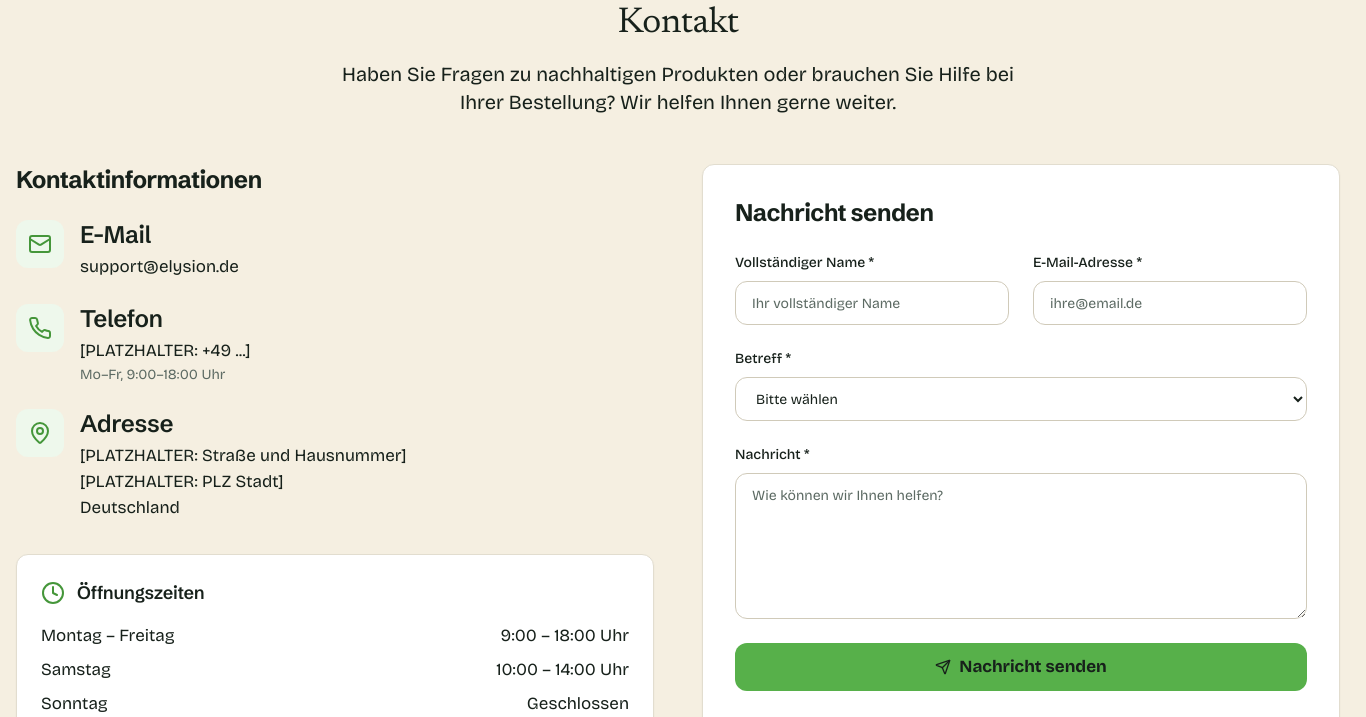
Contact — POST /api/v1/contact (#120) › does not claim a notification went out when forwarded=false
Type "Max Mustermann" into the field labelled "Vollständiger Name *".
click(872, 303); type("Max Mustermann")  # box [735, 281, 1009, 325]
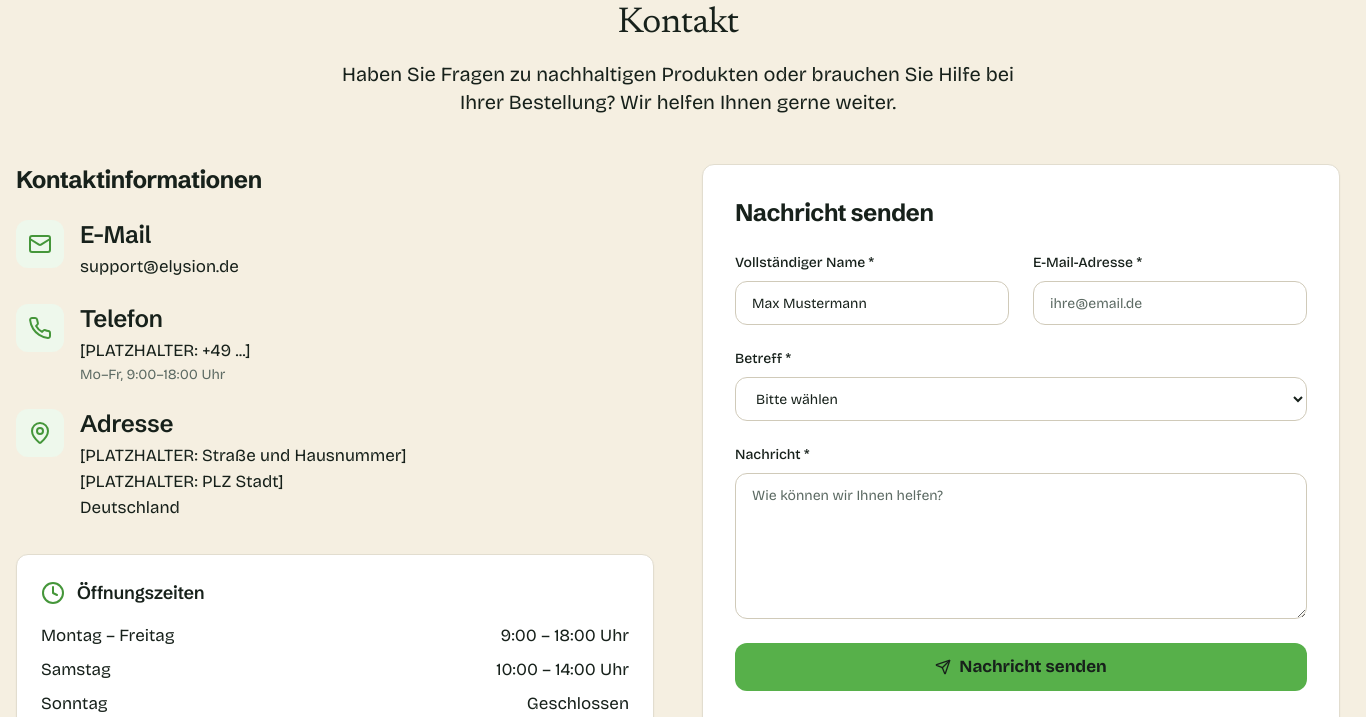
Type "max@example.com" into the field labelled "E-Mail-Adresse *".
click(1170, 303); type("max@example.com")  # box [1033, 281, 1307, 325]
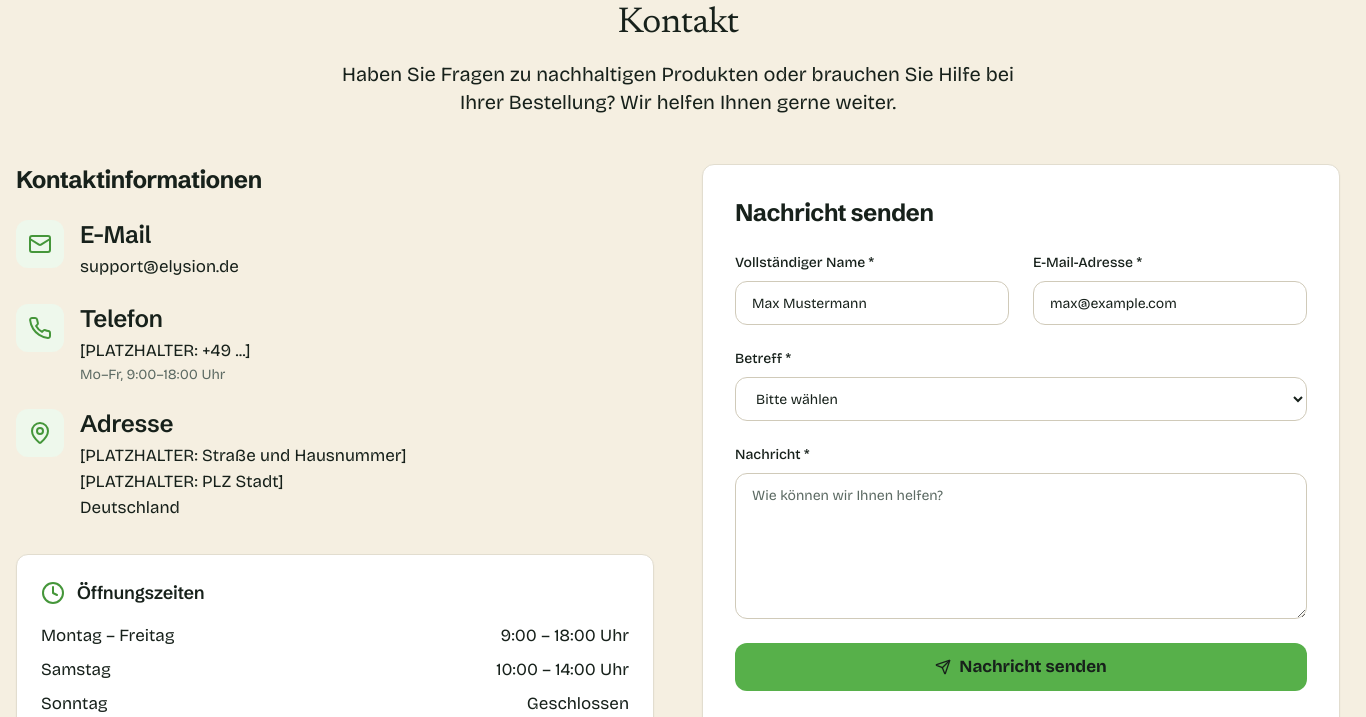
Select "Hilfe bei einer Bestellung" in the dropdown labelled "Betreff *" at (1021, 399), box [735, 377, 1307, 421]
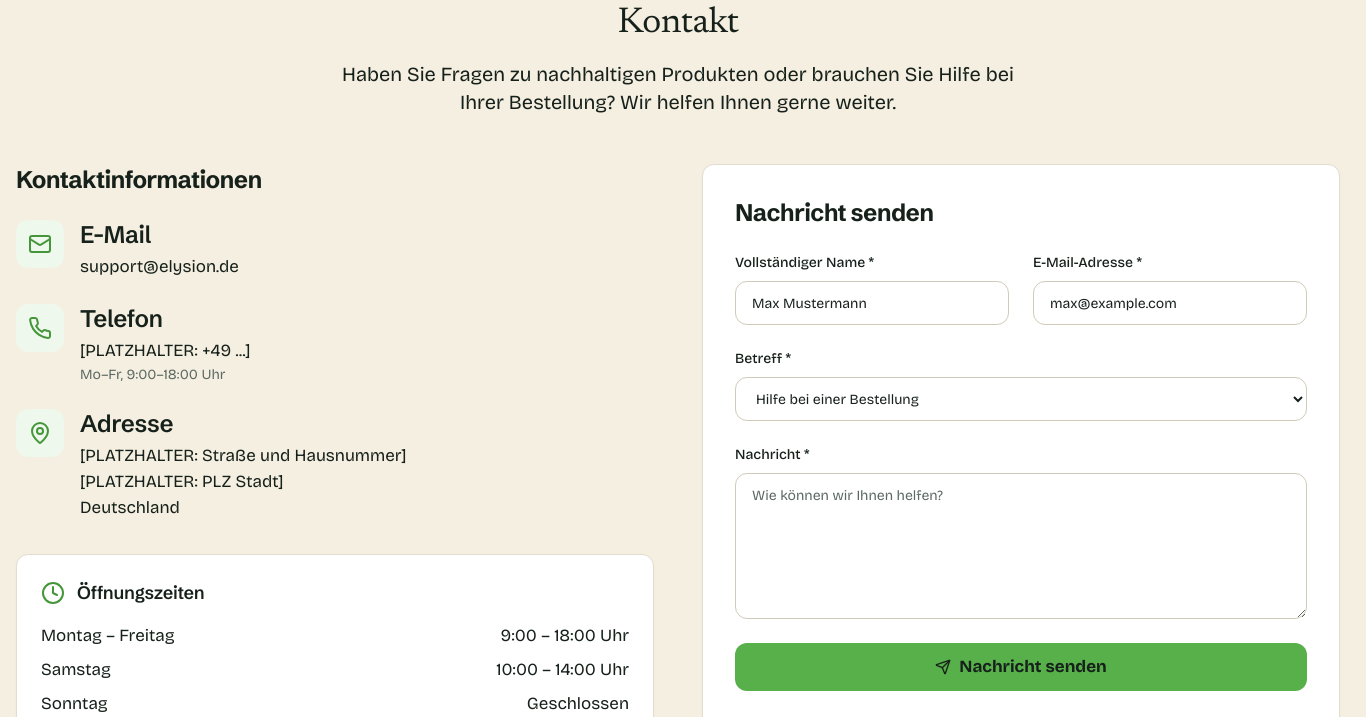
Type "Wo ist meine Bestellung?" into the text box labelled "Nachricht *".
click(1021, 546); type("Wo ist meine Bestellung?")  # box [735, 473, 1307, 619]
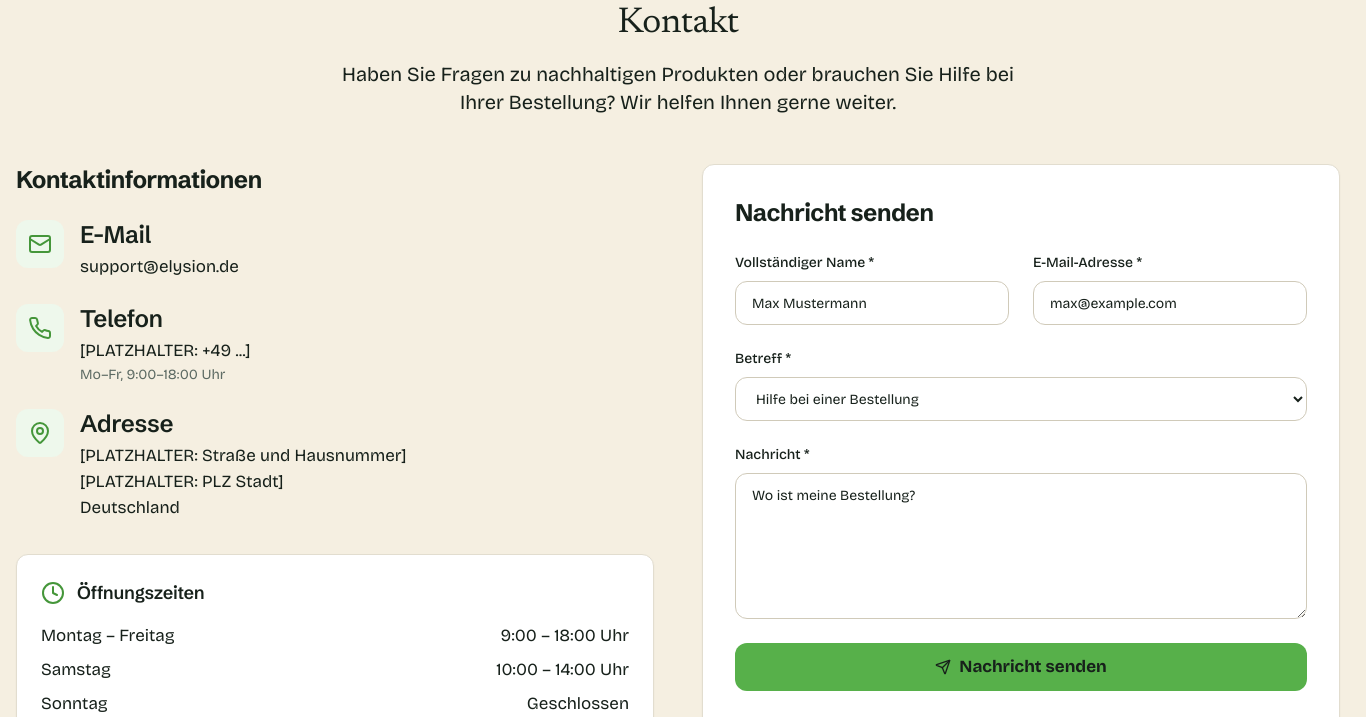
Click the button "Nachricht senden".
click(1021, 667)  # box [735, 643, 1307, 691]
(page scrolled)
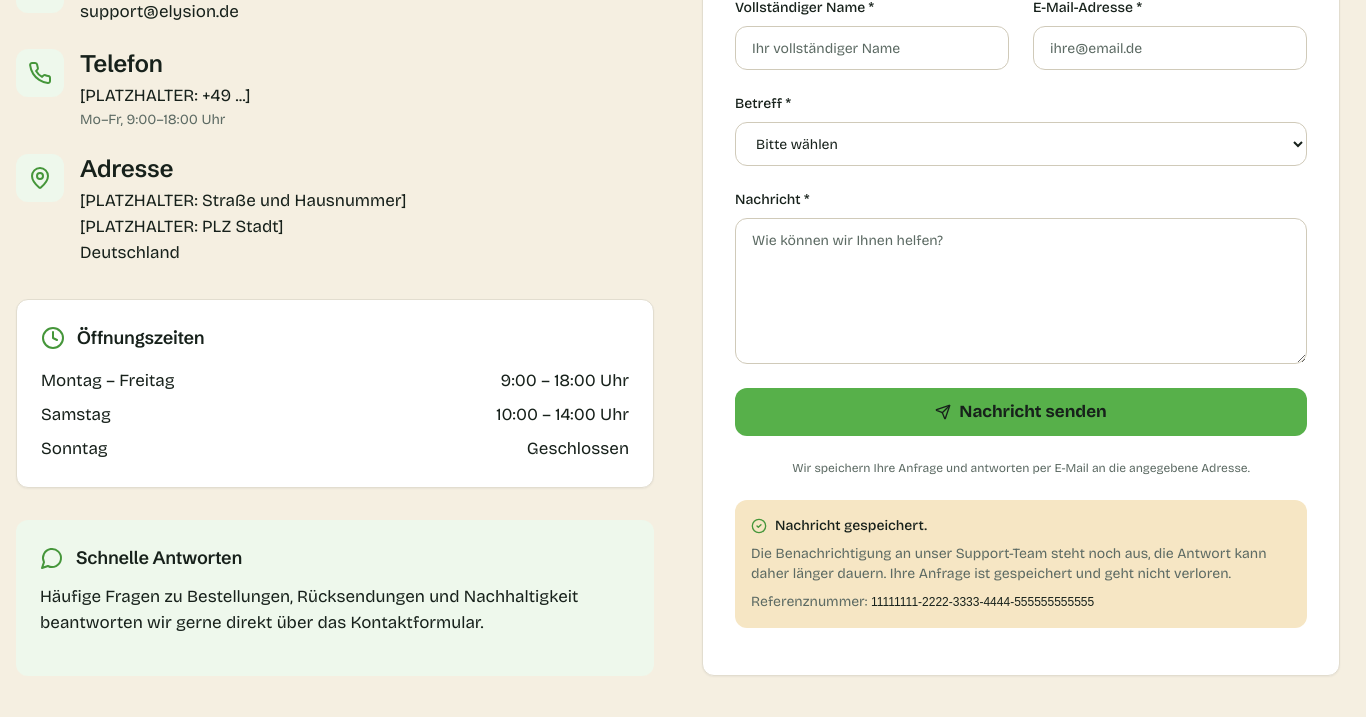
Expected: the message shows "11111111-2222-3333-4444-555555555555", [871, 595, 1094, 609]
Expected: the message shows "steht noch aus", [751, 545, 1266, 582]
Expected: the message shows "geht nicht verloren", [751, 545, 1266, 582]
